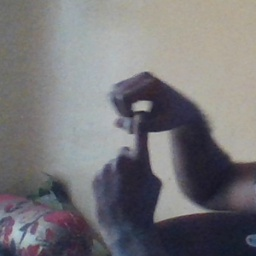Q: (84, 68, 185, 206)
